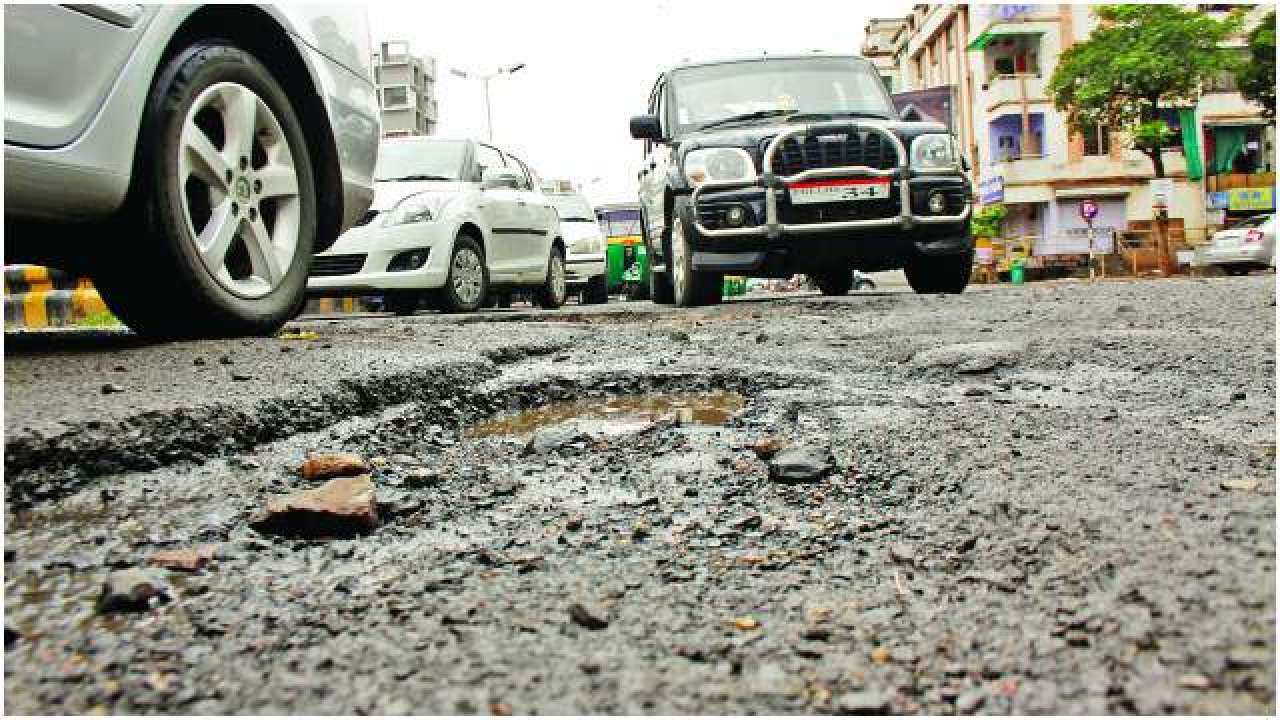pothole: (322, 376, 833, 466)
